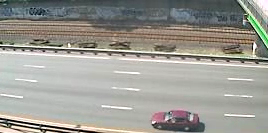car: (150, 108, 201, 133)
